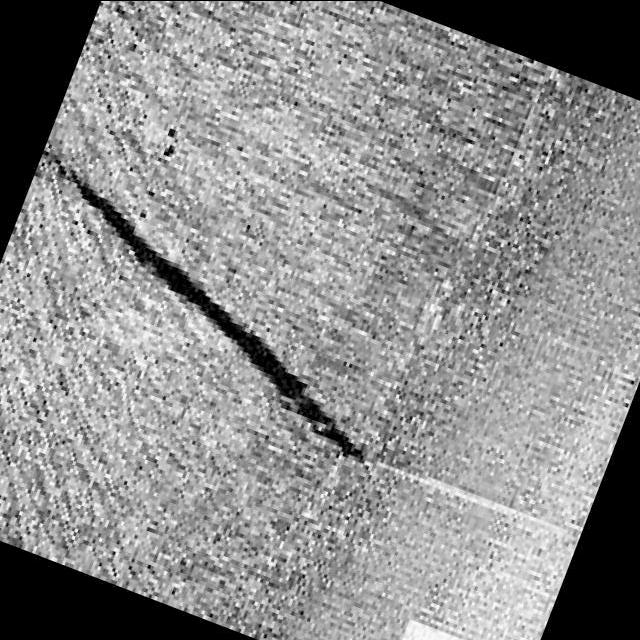defect: (40, 139, 376, 464)
